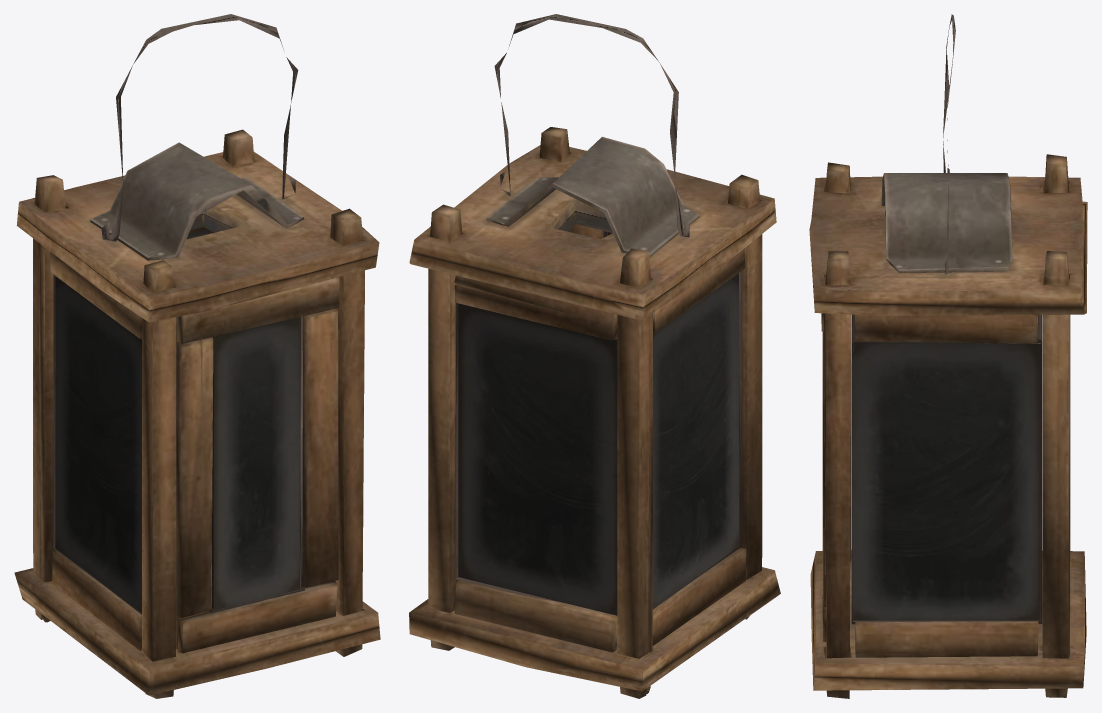
File: wooden_lantern_01.glb
3 views of the same model, side by side, from view 1: azimuth 30°, elevation 25°; view 2: azimuth 150°, elevation 25°; view 3: azimuth 270°, elevation 25° (orthographic).
Parts seen in each view (by area): view 1: wooden_lantern_01, wooden_lantern_01_door, wooden_lantern_01_handle; view 2: wooden_lantern_01, wooden_lantern_01_handle; view 3: wooden_lantern_01, wooden_lantern_01_door, wooden_lantern_01_handle.
Part boxes in pixels (x1,y1,x2,y2): wooden_lantern_01: (14,129,380,698); wooden_lantern_01_door: (176,277,339,653); wooden_lantern_01_handle: (101,14,298,241); wooden_lantern_01: (409,127,780,698); wooden_lantern_01_handle: (494,14,689,237); wooden_lantern_01: (809,154,1087,698); wooden_lantern_01_door: (821,313,826,641); wooden_lantern_01_handle: (943,14,955,274).
Bounding box in the file's own units: 0.2145 × 0.5267 × 0.2153.
2 materials, 2 textured.
